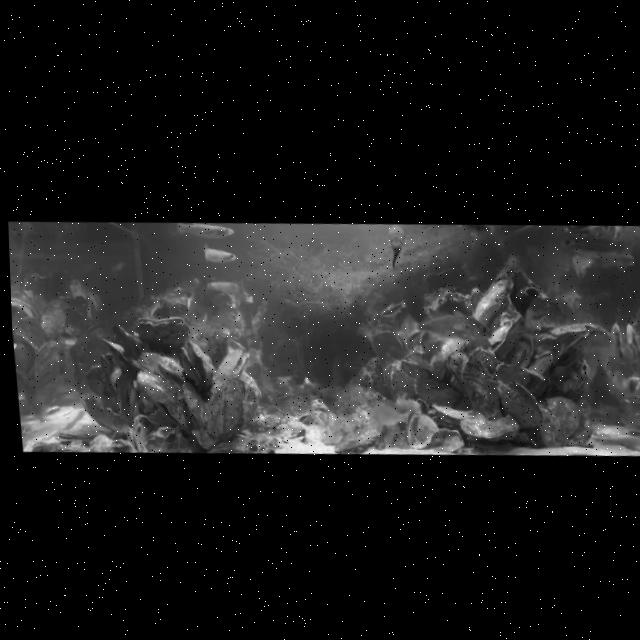Oyster-Closed: (136, 348, 191, 434), (445, 347, 504, 421), (426, 321, 475, 383), (471, 273, 518, 333), (458, 410, 520, 446), (540, 394, 584, 439), (488, 311, 526, 362), (223, 375, 251, 439), (203, 381, 230, 440), (535, 402, 568, 449), (432, 400, 486, 428), (181, 379, 208, 431), (414, 380, 460, 409), (57, 420, 113, 443), (102, 337, 132, 368)
Oyster-Indeterminate: (33, 338, 70, 403), (81, 363, 121, 416), (556, 327, 599, 370), (533, 319, 599, 347), (79, 391, 123, 432), (427, 289, 474, 326), (12, 331, 39, 390), (239, 372, 264, 431), (112, 322, 146, 363), (503, 328, 537, 368), (469, 344, 502, 378), (494, 359, 530, 389), (429, 427, 466, 456), (130, 413, 156, 454), (149, 295, 188, 322), (525, 348, 557, 379), (417, 324, 442, 357), (399, 359, 432, 382)
Oyster-Open: (494, 376, 545, 431), (134, 313, 192, 351), (368, 320, 410, 365), (181, 338, 216, 390), (404, 413, 441, 451), (215, 346, 252, 383), (11, 295, 39, 327), (298, 412, 316, 426)
